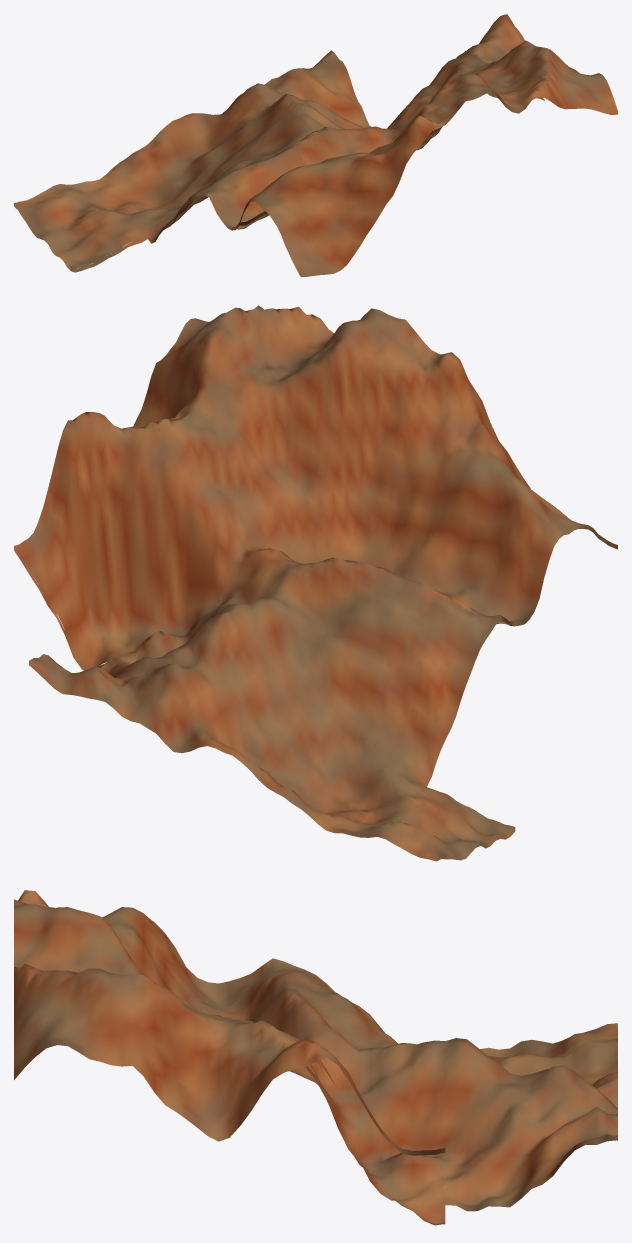
File: terrain-042.glb
3 renders of one model, top to bottom at view 1: azimuth 30°, elevation 25°; view 2: azimuth 150°, elevation 25°; view 3: azimuth 270°, elevation 25°, orthographic. The views are drawn at different scales.
Visible parts, largest first — view 1: terrain-042; view 2: terrain-042; view 3: terrain-042.
Part boxes in pixels (box(x1,y1,x2,y2)): terrain-042: box(14, 14, 617, 276); terrain-042: box(14, 305, 617, 861); terrain-042: box(14, 890, 617, 1225).
Size of the model in its own units: 472 by 271 by 448.
